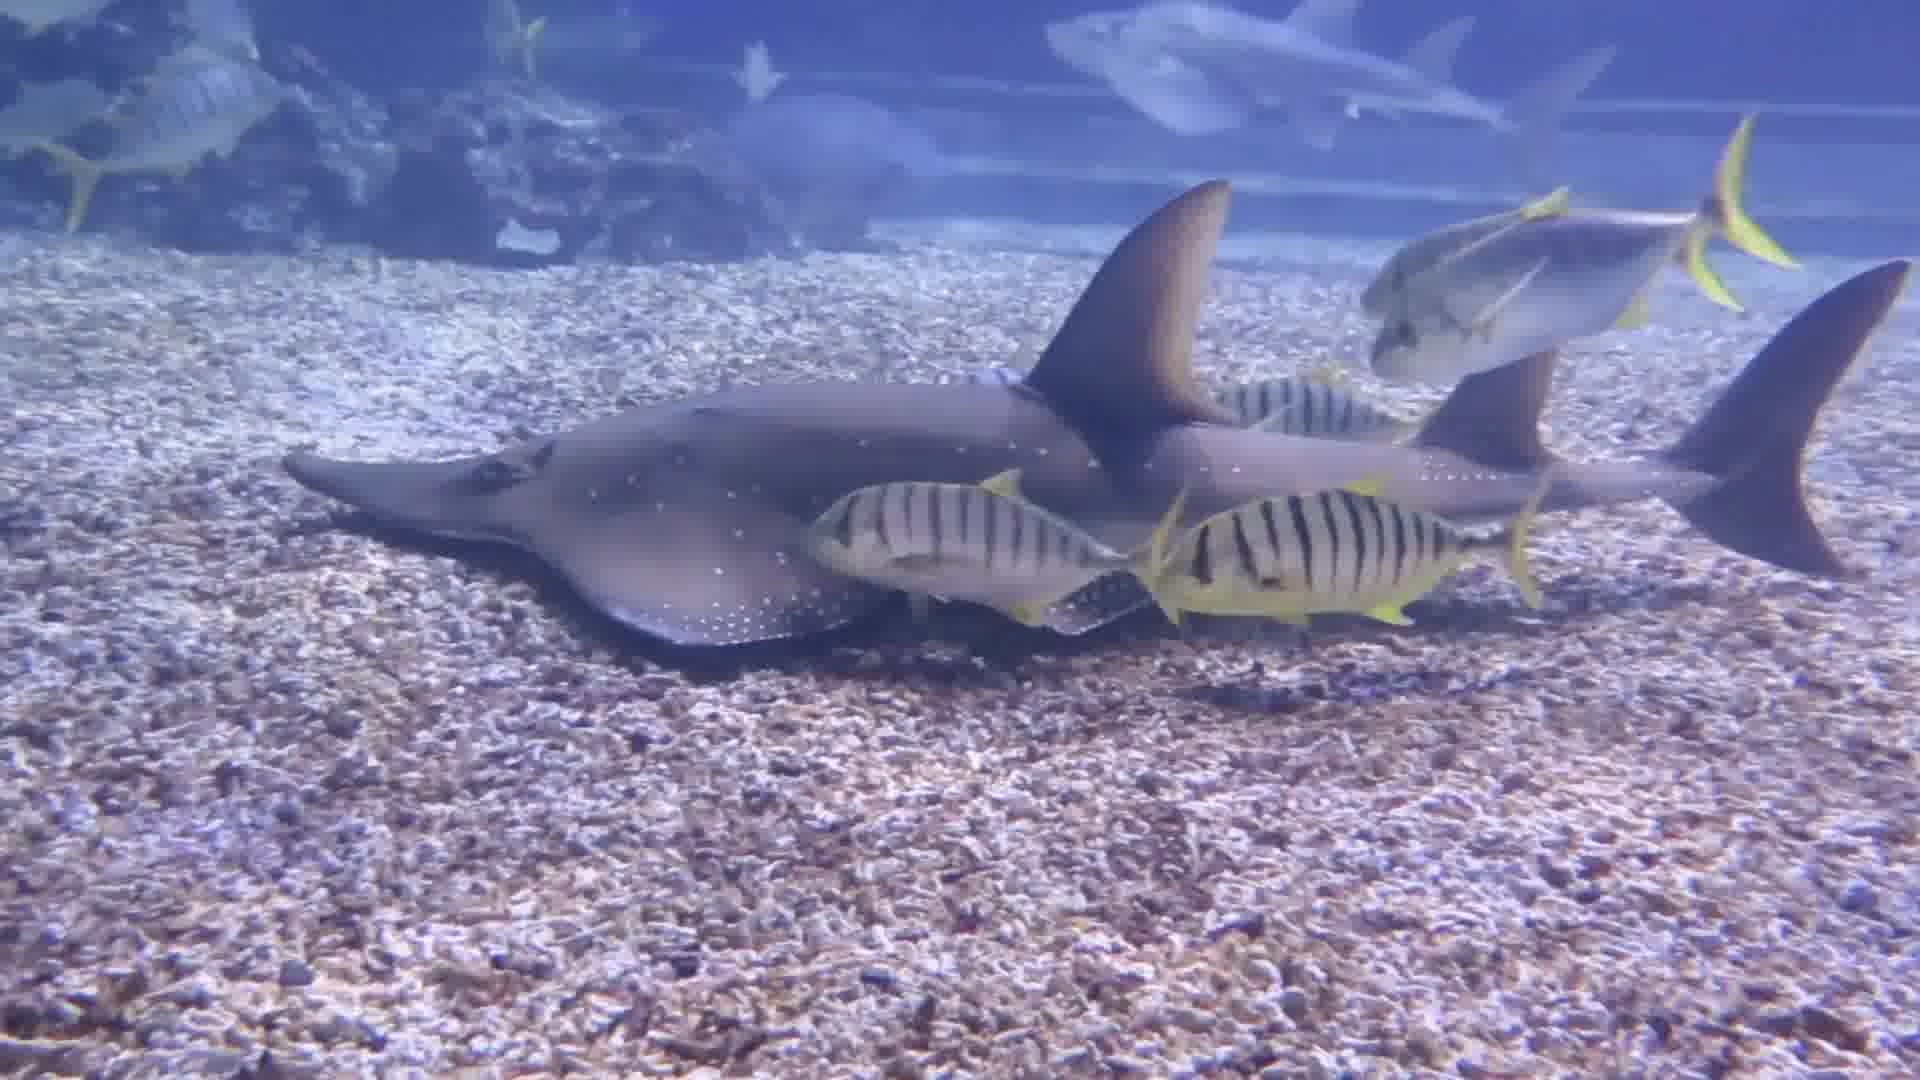Rhychobatus djiddensis: (262, 189, 1912, 666)
